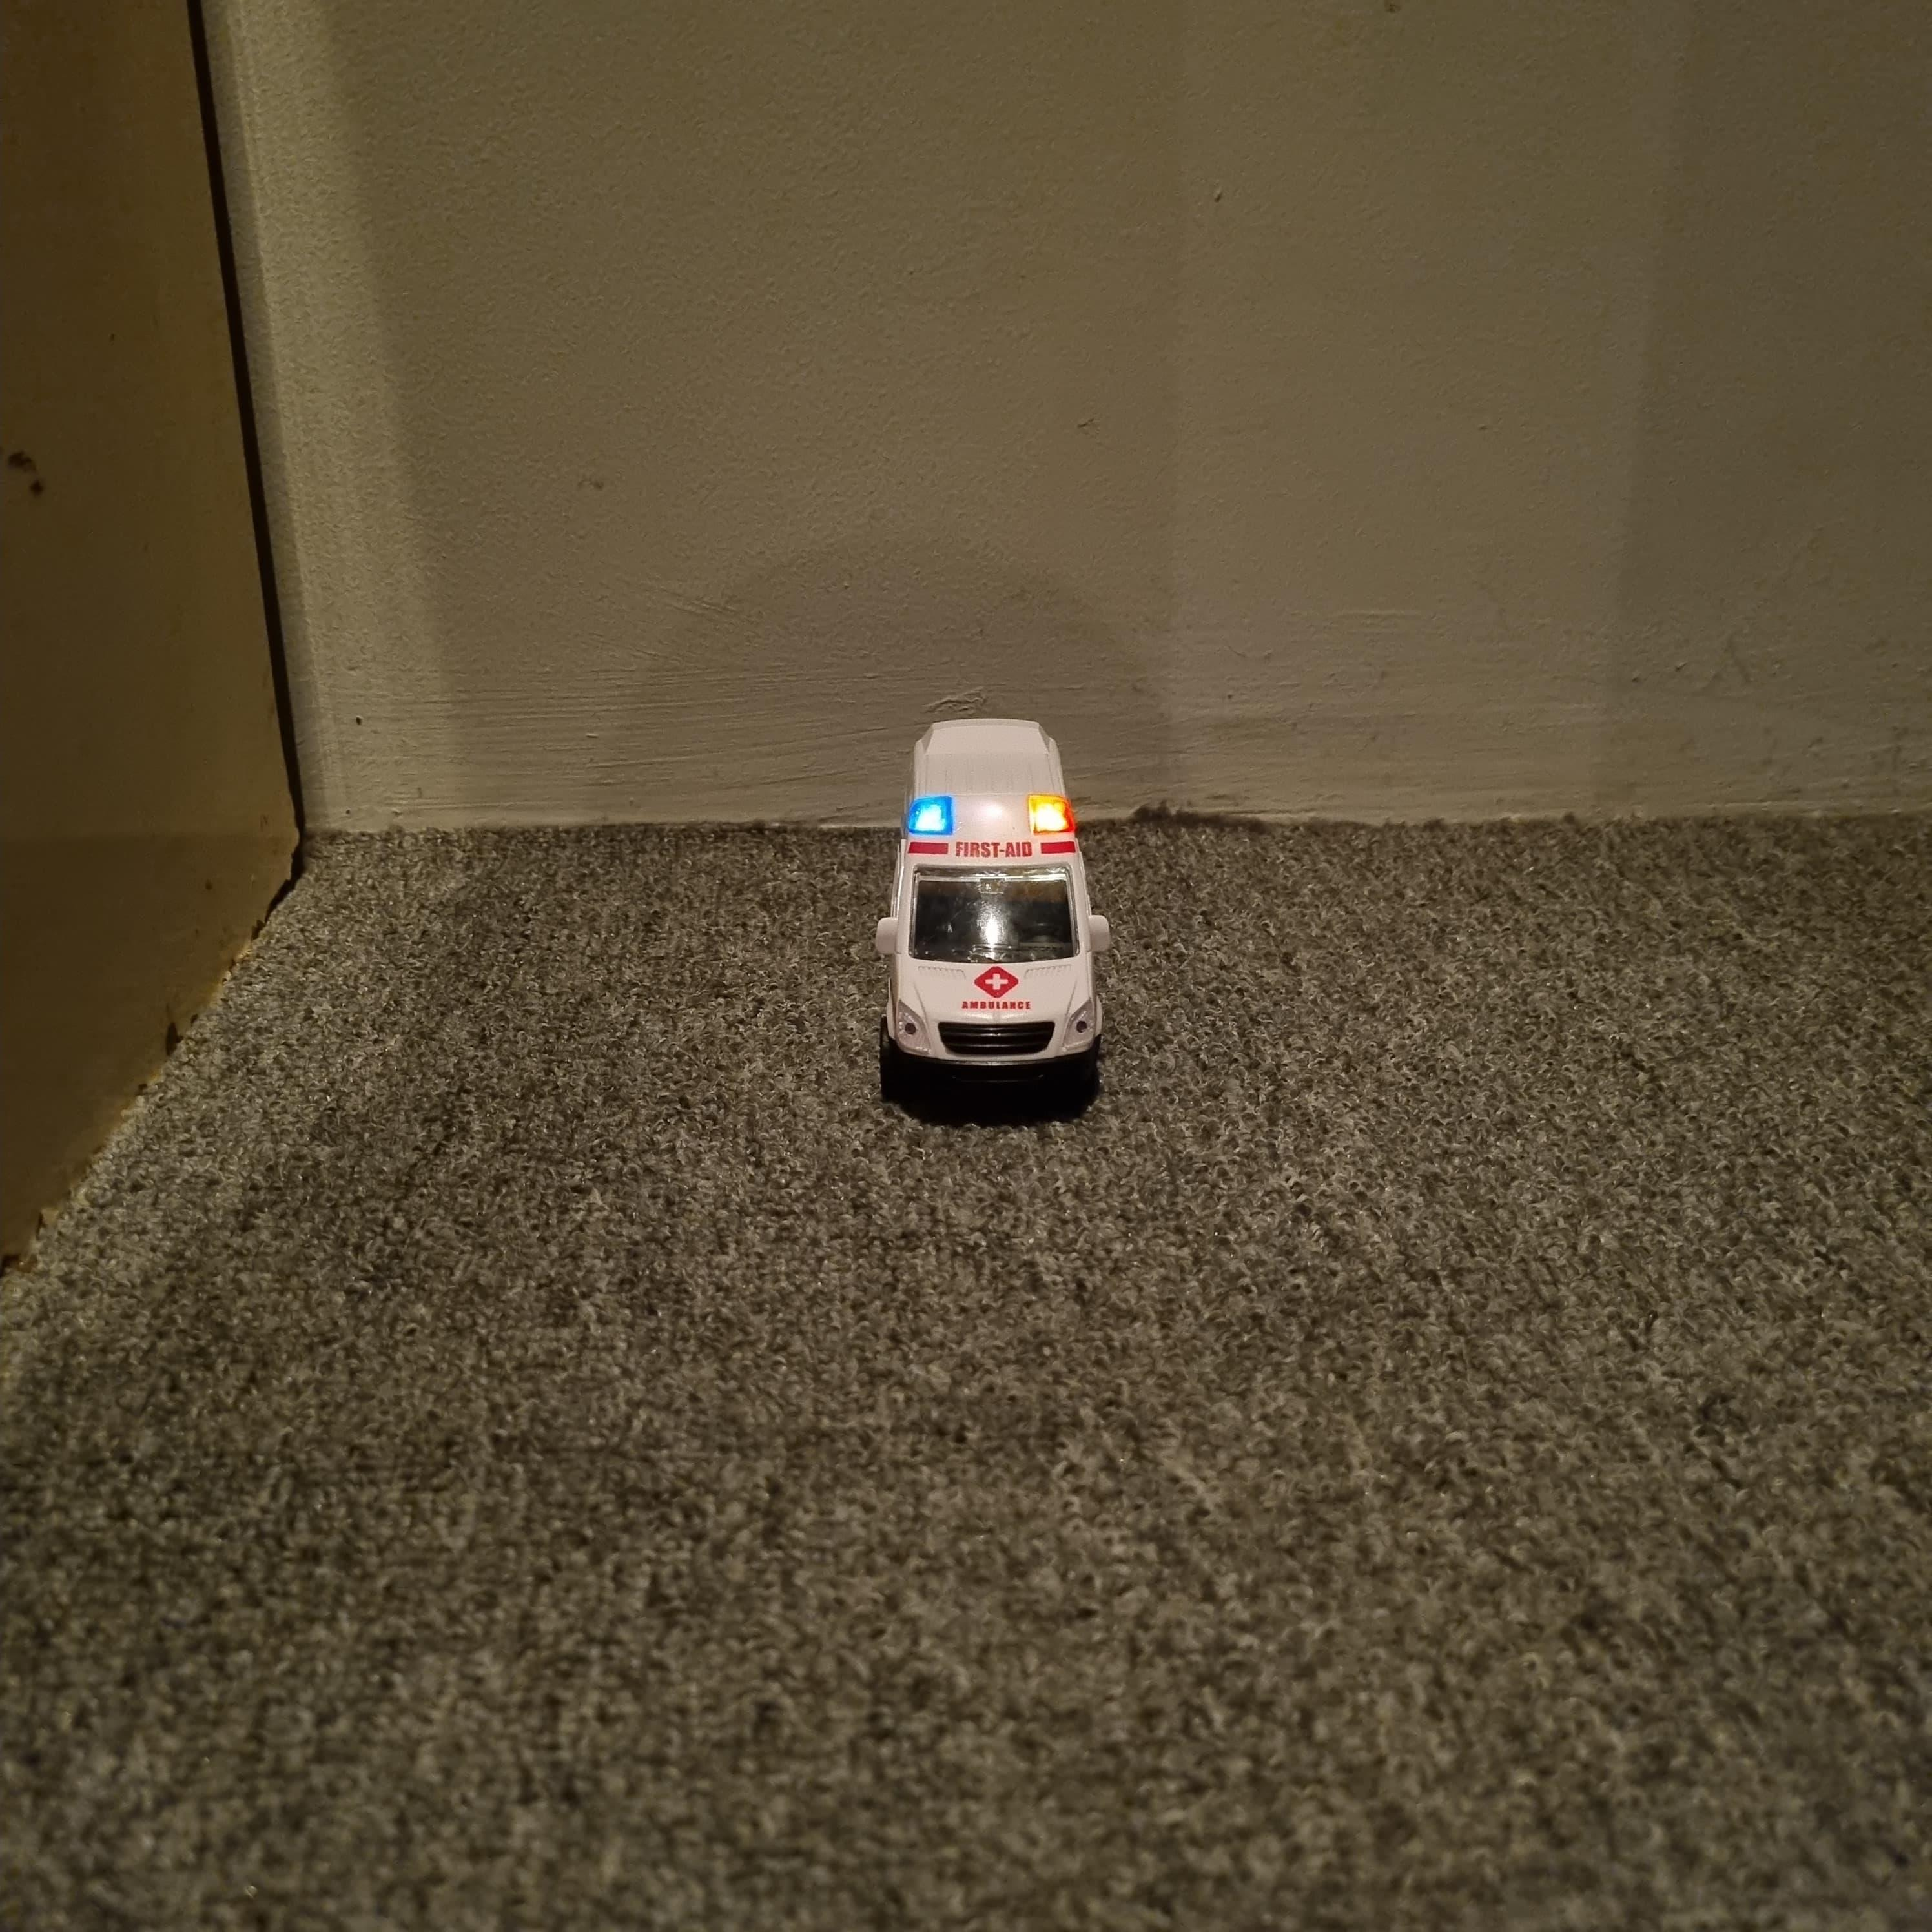ambulance_on: (874, 717, 1111, 1097)
